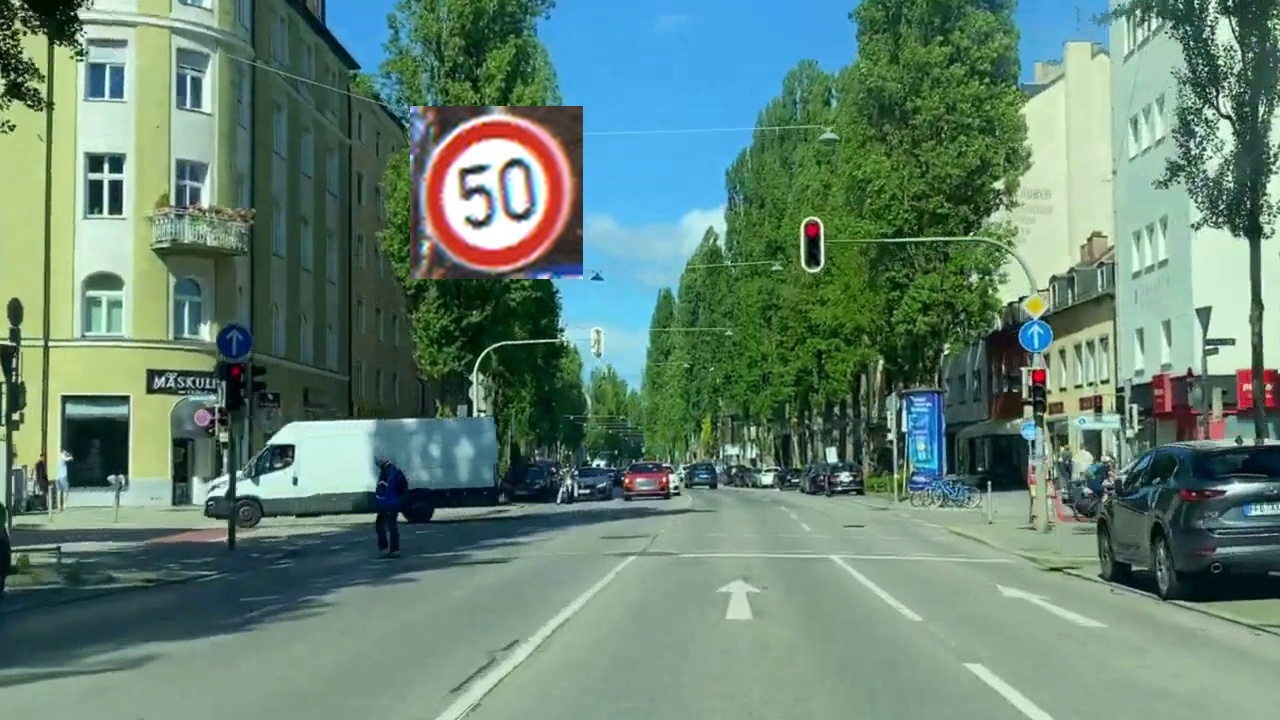Speed 50: (410, 106, 583, 279)
